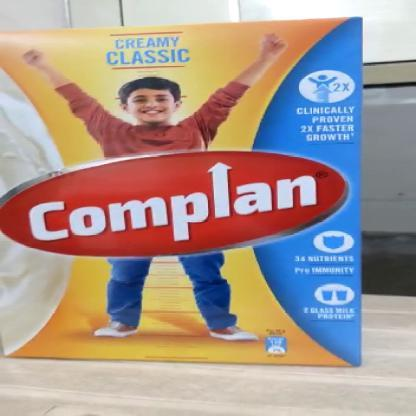Complan Classic Creme: (1, 23, 357, 374)
